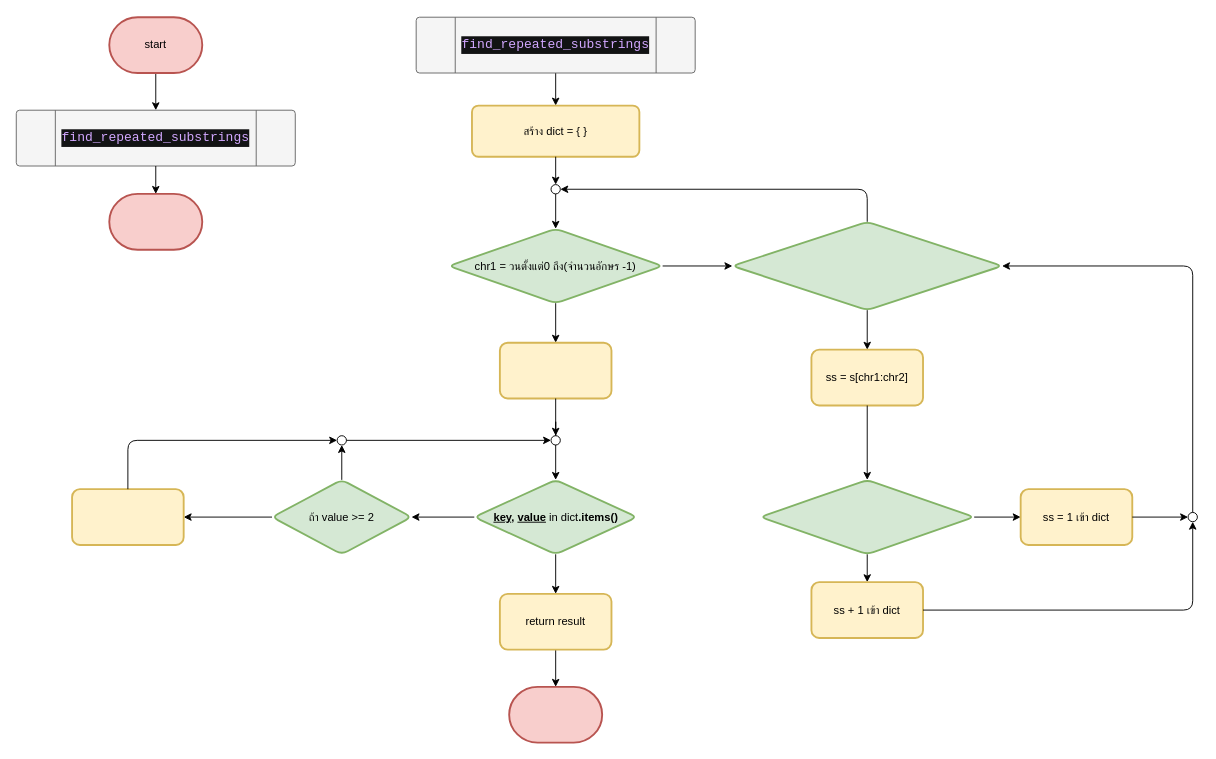
This 1216x759 diagram has some shape labels left out. Here are the shapes that lost their labels. From the top down, the box of each, then its label:
(108, 193, 203, 250): end
(731, 220, 1003, 311): chr2 = วนตั้งแต่(chr1)+2 ถึง (จำนวนอักษร +1)
(498, 341, 612, 399): สร้าง list result [ ]
(71, 488, 184, 545): เพิ่ม key เข้า result
(759, 478, 975, 555): ss อยู่ใน dict แล้วหรือยัง ?
(508, 685, 603, 743): stop
